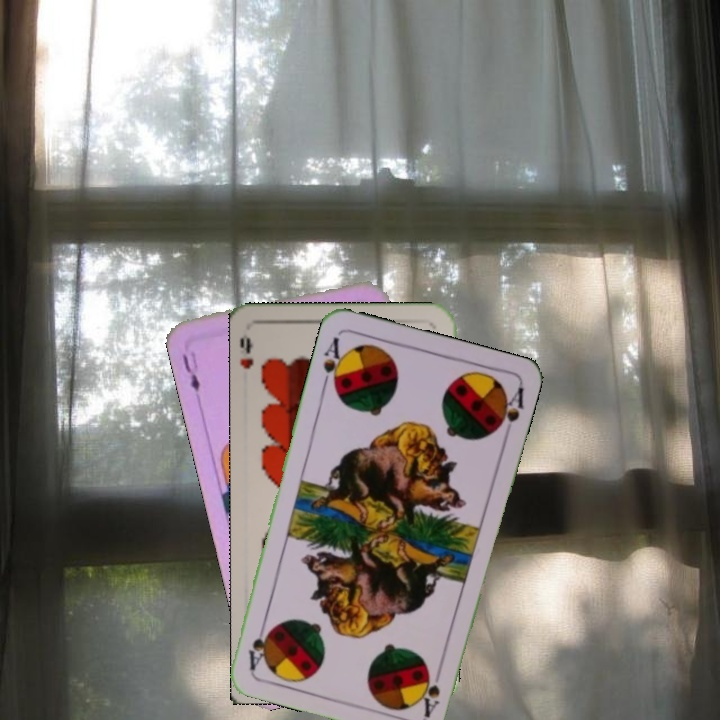EU: (178, 350, 203, 394)
H9: (236, 333, 255, 371)
SA: (318, 333, 349, 392), (417, 661, 445, 719)
